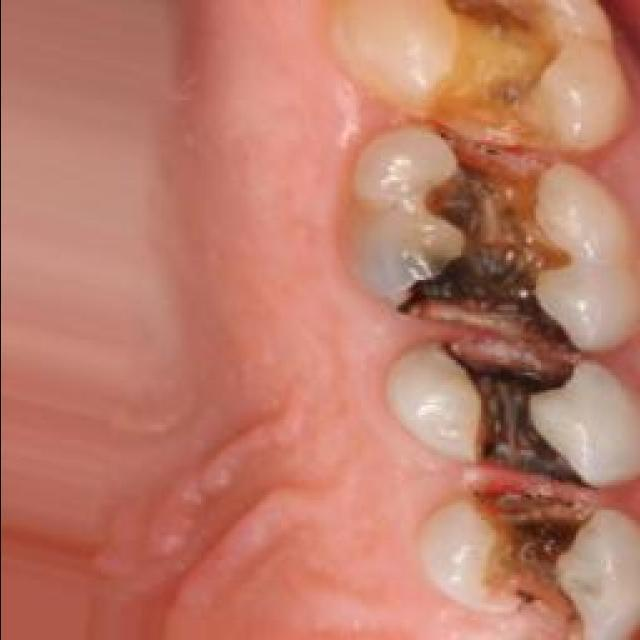decay: (389, 0, 608, 618)
